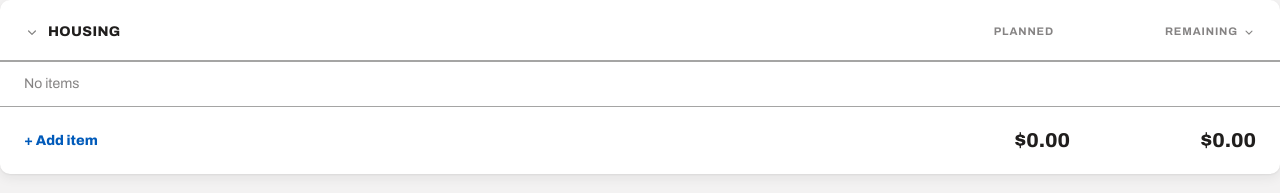
Test case: BudgetGroupCard metric dropdown › closes the menu on an outside mousedown
Step 1. Click the button "Remaining" → x=1171, y=32, box [1086,24,1256,40]
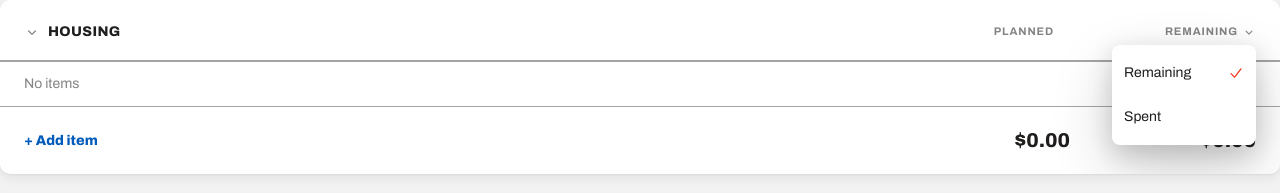
Result: the menu item "Spent" is shown at [1112,94,1256,138]
Step 2. Press the mouse on the element that starts with "Housing" → x=640, y=87, box [0,0,1279,174]
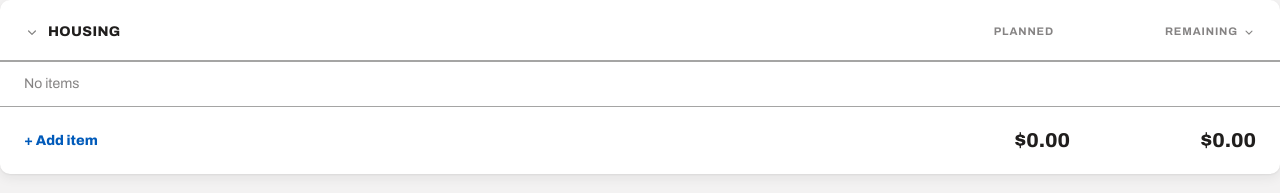
Result: the menu item "Spent" is gone
